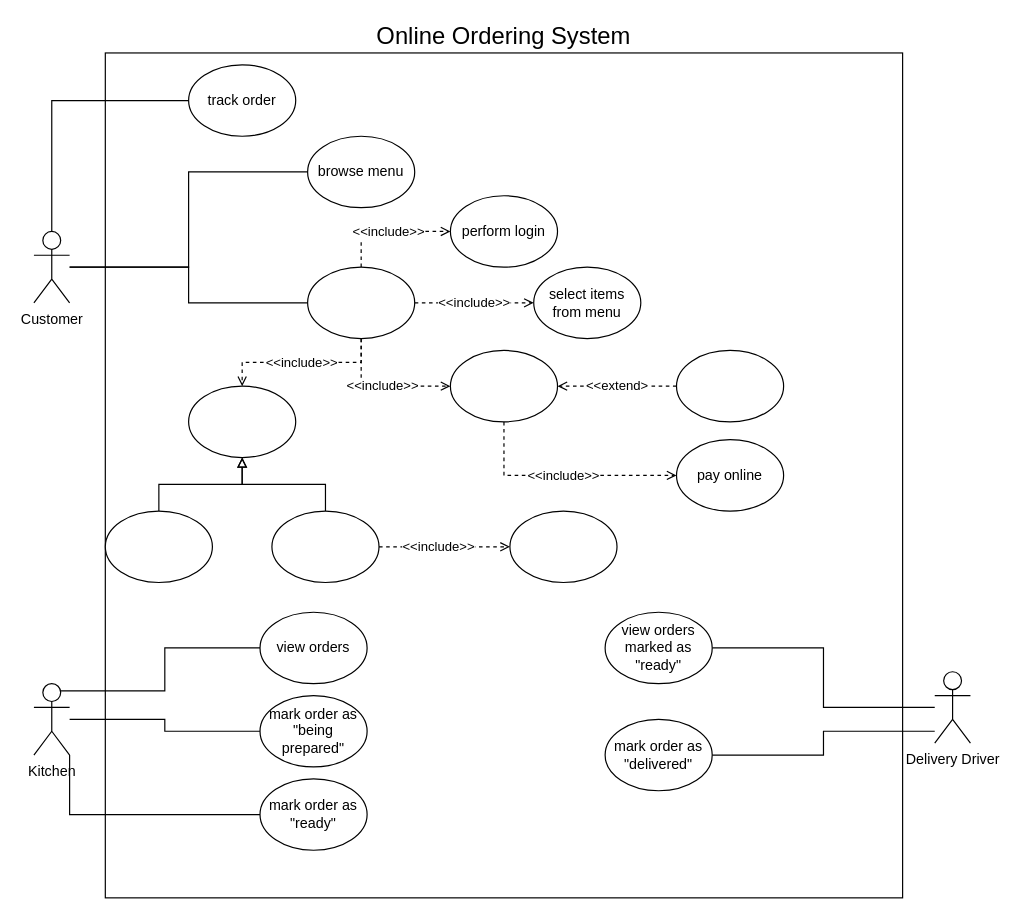
The diagram is 1020 pixels wide and 919 high, and some of its shapes have lost their labels. The centre of each missing label's shape, as x and y in pixels:
apply discount: (729,385)
confirm order: (503,385)
get order via delivery: (325,546)
get order via pickup: (158,546)
input address: (563,546)
placing order: (360,302)
select handover method: (241,421)
